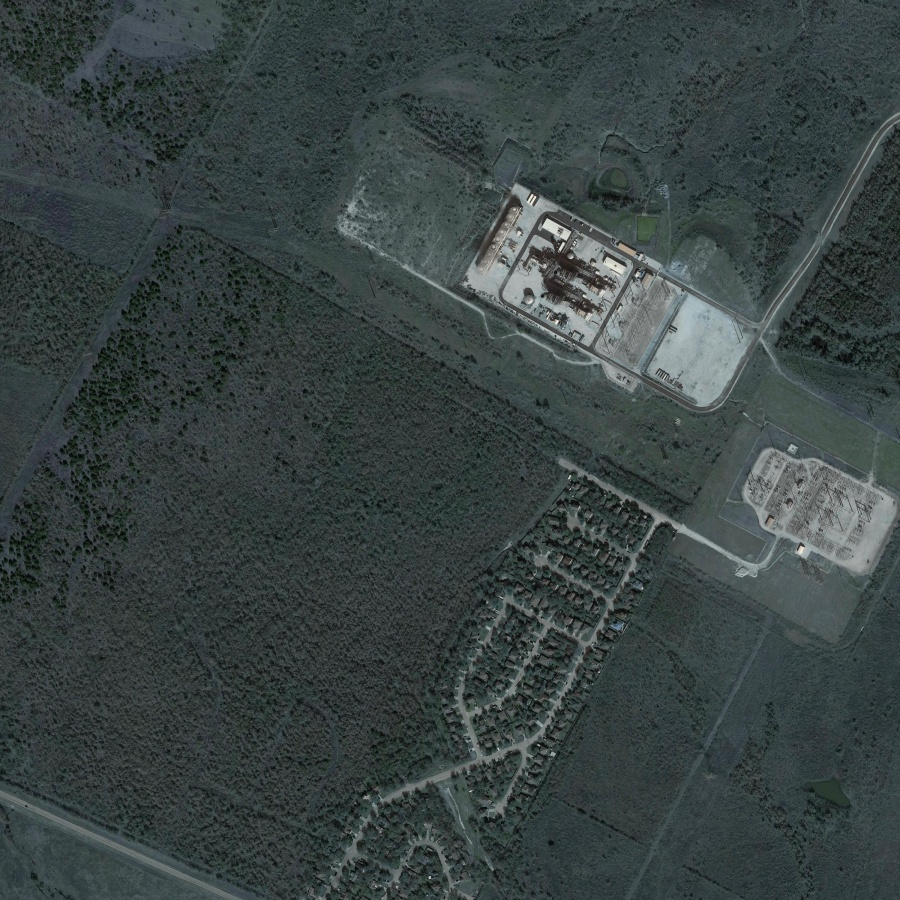PowerPlant: (466, 186, 676, 376), (740, 432, 886, 568)
